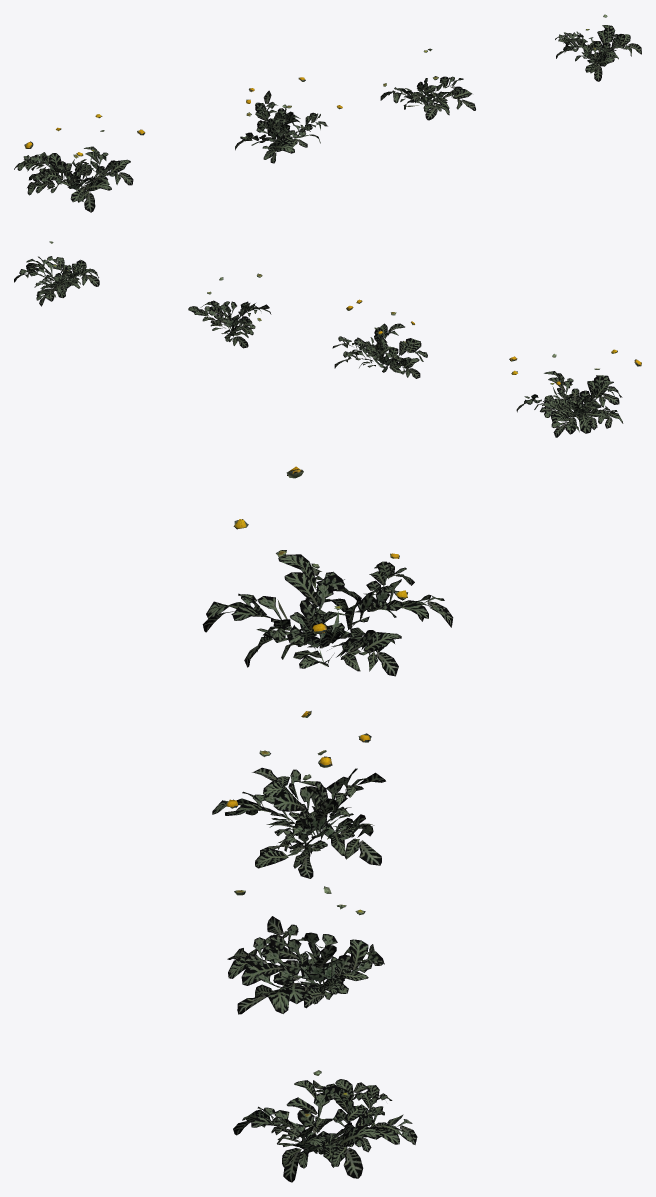
The model's file is stinkkruid.glb.
3 renders of one model, top to bottom at view 1: azimuth 30°, elevation 25°; view 2: azimuth 150°, elevation 25°; view 3: azimuth 270°, elevation 25°, orthographic. The views are drawn at different scales.
Parts seen in each view (by area): view 1: flower_stinkkruid_a_LOD0, flower_stinkkruid_b_LOD0, flower_stinkkruid_d_LOD0, flower_stinkkruid_c_LOD0; view 2: flower_stinkkruid_a_LOD0, flower_stinkkruid_b_LOD0, flower_stinkkruid_d_LOD0, flower_stinkkruid_c_LOD0; view 3: flower_stinkkruid_a_LOD0, flower_stinkkruid_b_LOD0, flower_stinkkruid_c_LOD0, flower_stinkkruid_d_LOD0.
Boxes of the visible parts, box(x1,y1,x2,y2) form: flower_stinkkruid_a_LOD0: box(14, 114, 145, 212); flower_stinkkruid_b_LOD0: box(235, 77, 342, 163); flower_stinkkruid_d_LOD0: box(555, 14, 641, 81); flower_stinkkruid_c_LOD0: box(380, 48, 475, 120); flower_stinkkruid_a_LOD0: box(509, 349, 641, 437); flower_stinkkruid_b_LOD0: box(332, 299, 427, 378); flower_stinkkruid_d_LOD0: box(14, 241, 99, 306); flower_stinkkruid_c_LOD0: box(188, 273, 271, 348); flower_stinkkruid_a_LOD0: box(202, 466, 453, 676); flower_stinkkruid_b_LOD0: box(212, 711, 385, 878); flower_stinkkruid_c_LOD0: box(227, 886, 384, 1014); flower_stinkkruid_d_LOD0: box(233, 1070, 417, 1182).
Bounding box in the file's own units: 1.7 × 0.1762 × 0.3005.
1 material, 1 textured.
